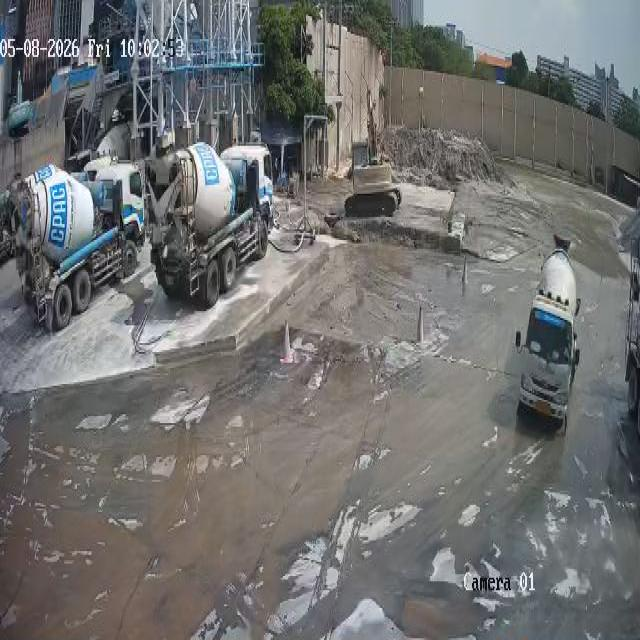cement_mixer_truck: (144, 137, 274, 306), (27, 164, 145, 333), (516, 229, 578, 426), (60, 121, 151, 174)
